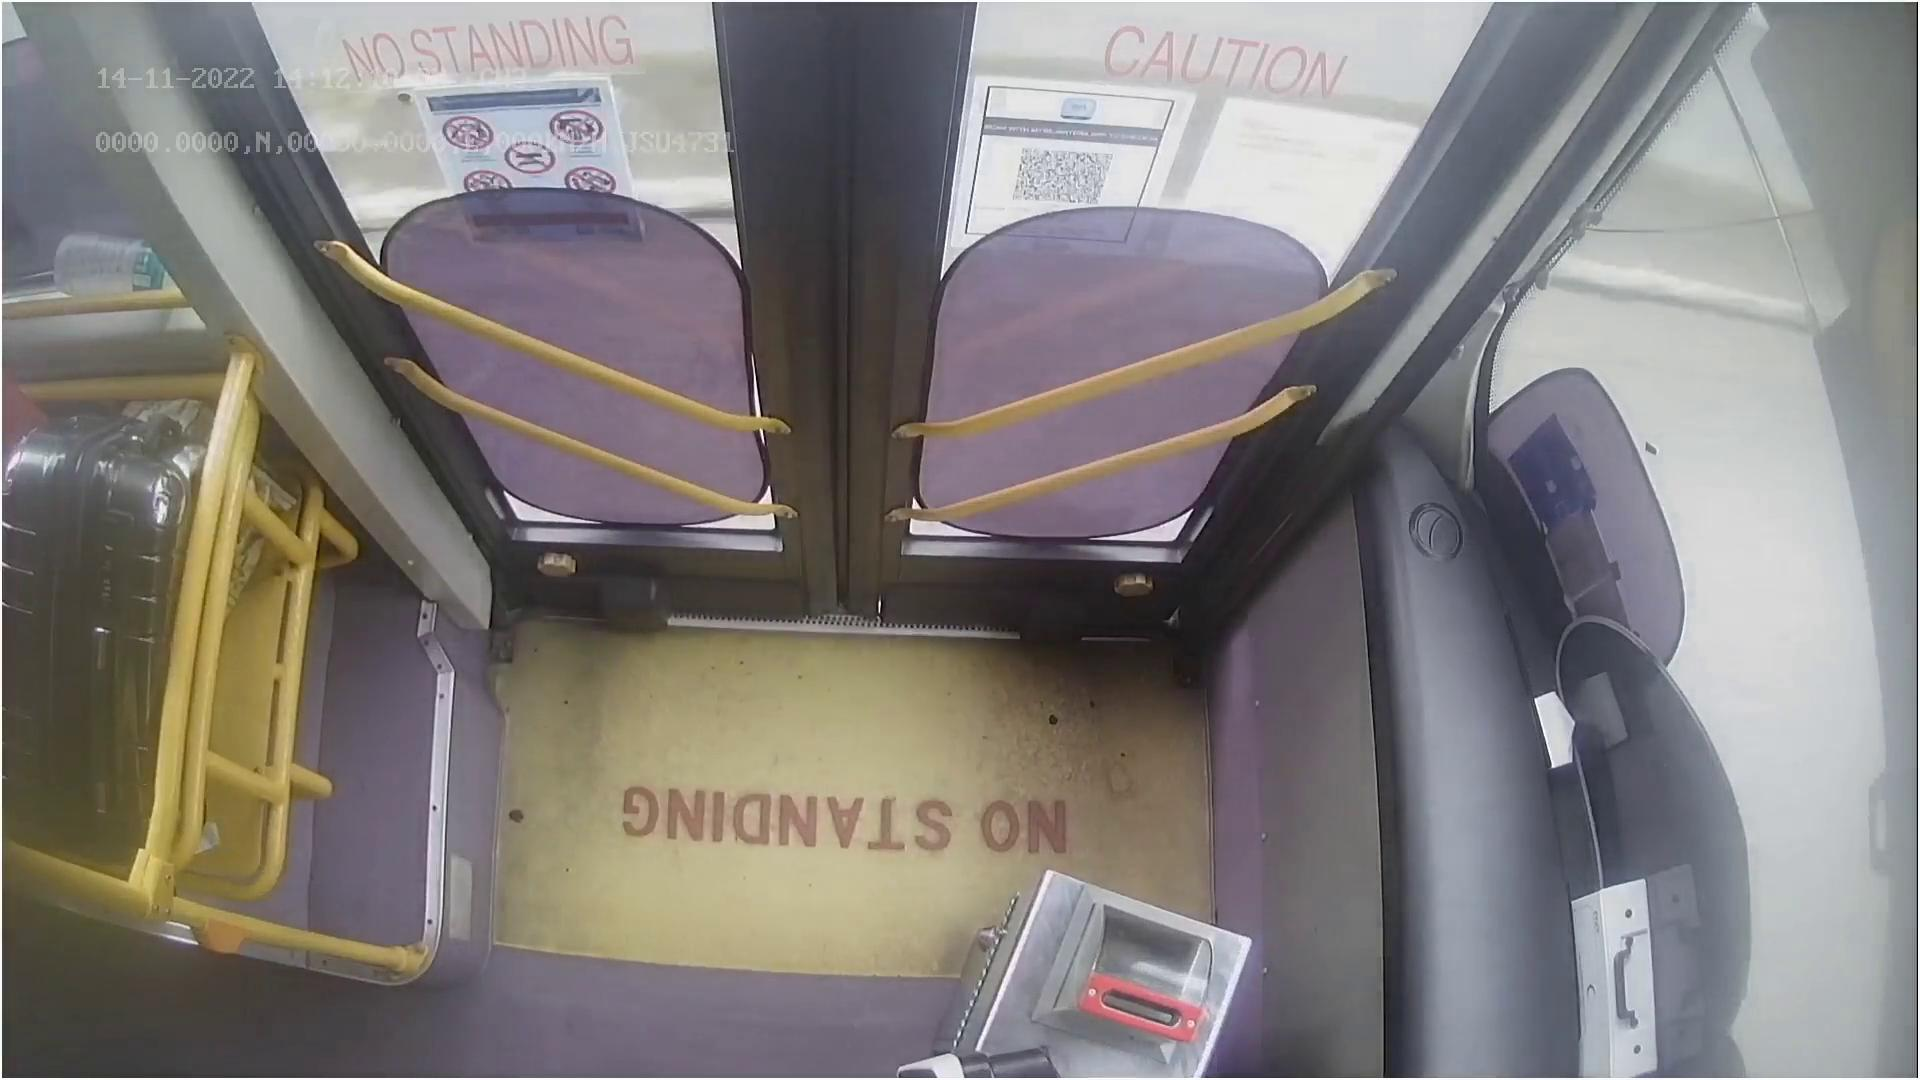close: (282, 0, 1432, 173)
